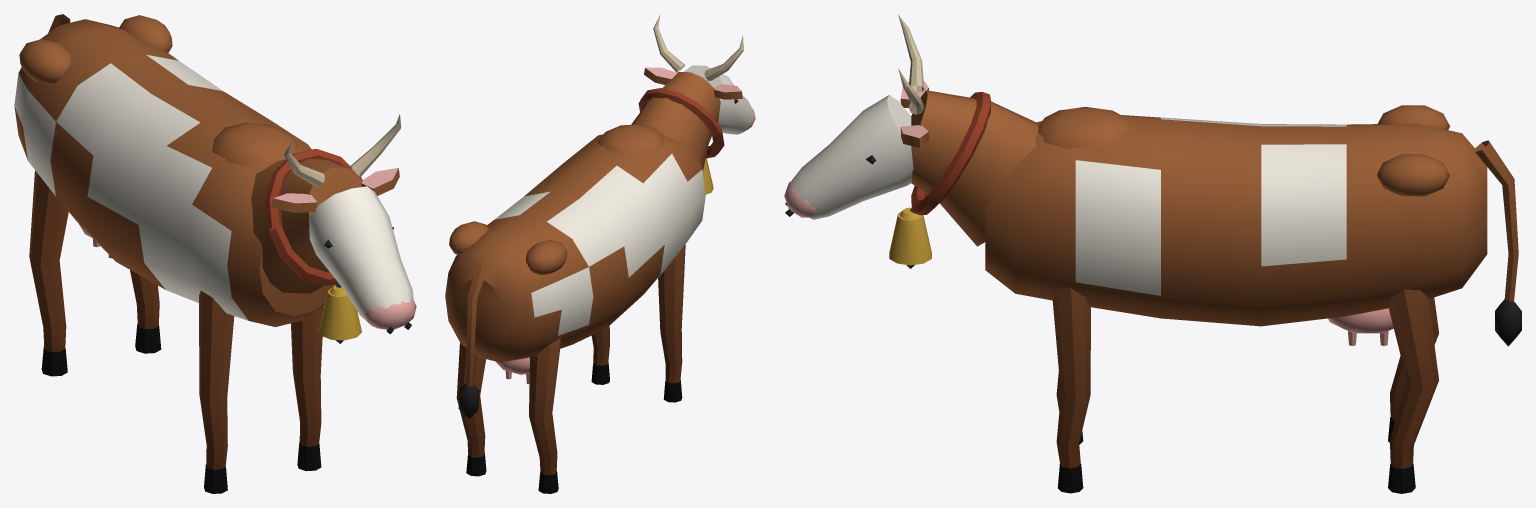
The model's file is Cow_A.fbx.
3 renders of one model, left to right at view 1: azimuth 30°, elevation 25°; view 2: azimuth 150°, elevation 25°; view 3: azimuth 270°, elevation 25°, orthographic. The views are drawn at different scales.
Parts seen in each view (by area): view 1: Cow_A_LOD0; view 2: Cow_A_LOD0; view 3: Cow_A_LOD0.
Part boxes in pixels (<box>): Cow_A_LOD0: <box>14,14,416,493</box>; Cow_A_LOD0: <box>445,15,755,493</box>; Cow_A_LOD0: <box>784,14,1521,493</box>.
Size of what is drawn, in the model's own units: 0.74 by 1.77 by 2.79.
1 material, 1 textured.
